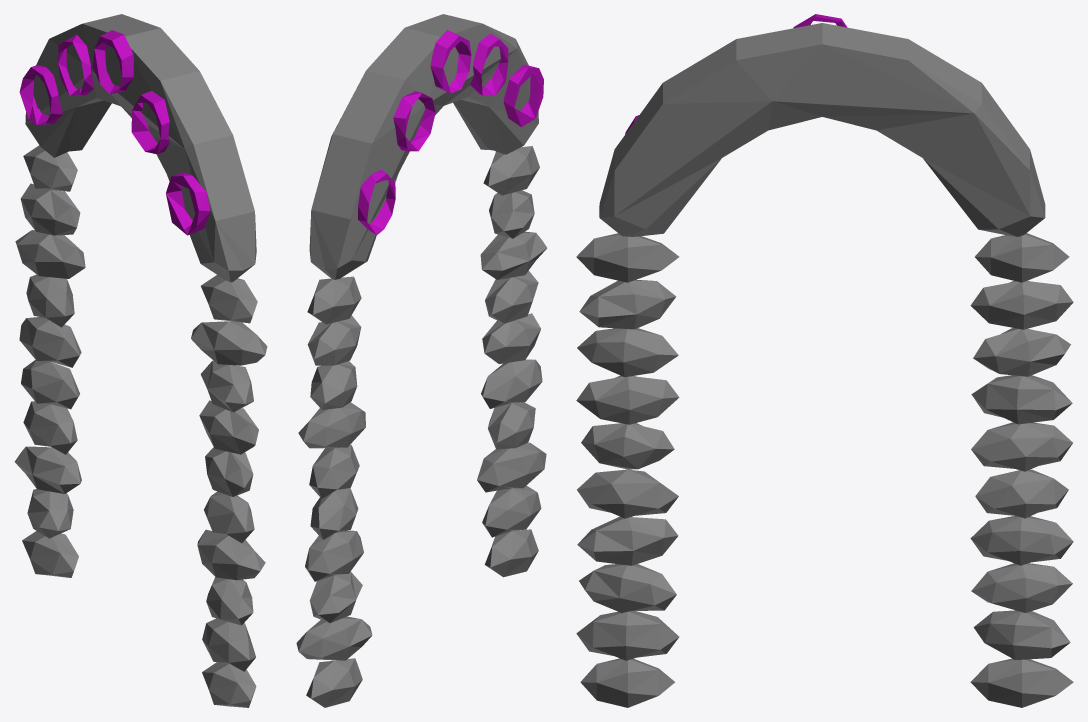
The model's file is Vrata.fbx.
3 views of the same model, side by side, from view 1: azimuth 30°, elevation 25°; view 2: azimuth 150°, elevation 25°; view 3: azimuth 270°, elevation 25° (orthographic). The views are drawn at different scales.
Parts seen in each view (by area): view 1: Polygon_Reduction; view 2: Polygon_Reduction; view 3: Polygon_Reduction.
Part boxes in pixels (box(x1,y1,x2,y2)): Polygon_Reduction: box(14, 14, 267, 707); Polygon_Reduction: box(296, 14, 546, 707); Polygon_Reduction: box(576, 14, 1073, 707).
Size of the model in its own units: 29.83 by 289 by 192.
